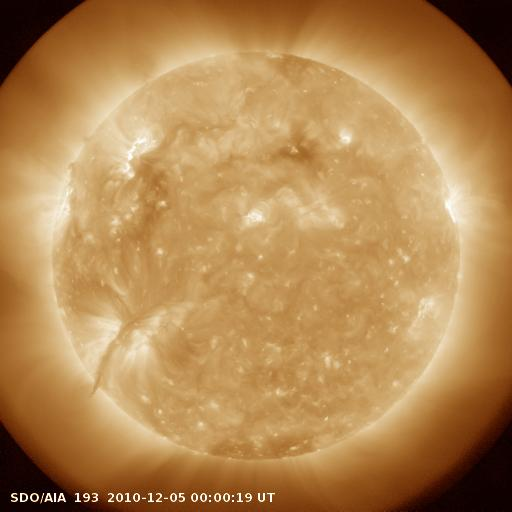coronal_hole: (207, 434, 322, 461), (271, 130, 317, 164)
